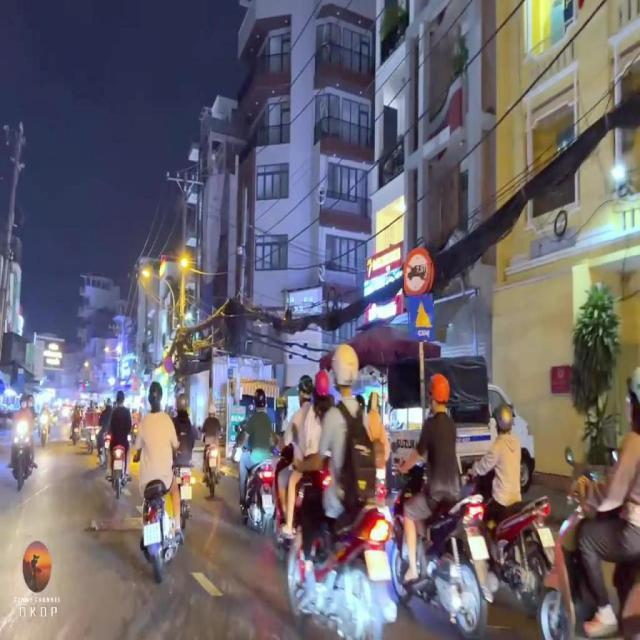106-cam-oto-tai: (402, 249, 433, 295)
442-cho: (406, 294, 434, 342)
